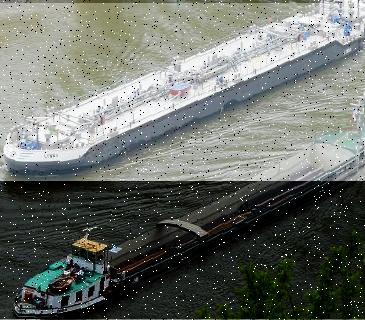Ship: (0, 96, 365, 320), (0, 3, 365, 181)
